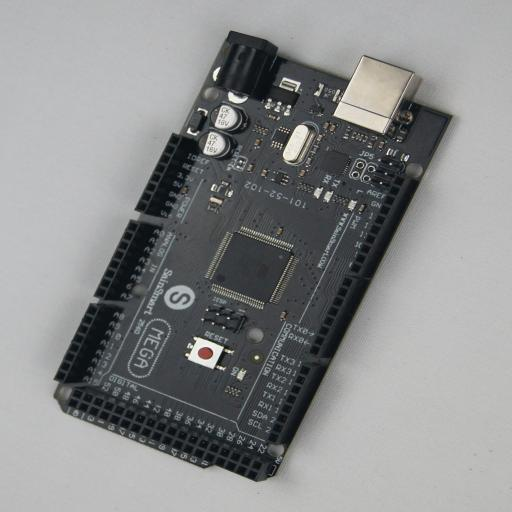Arduino Mega 2560 -Black-: (54, 30, 454, 482)
